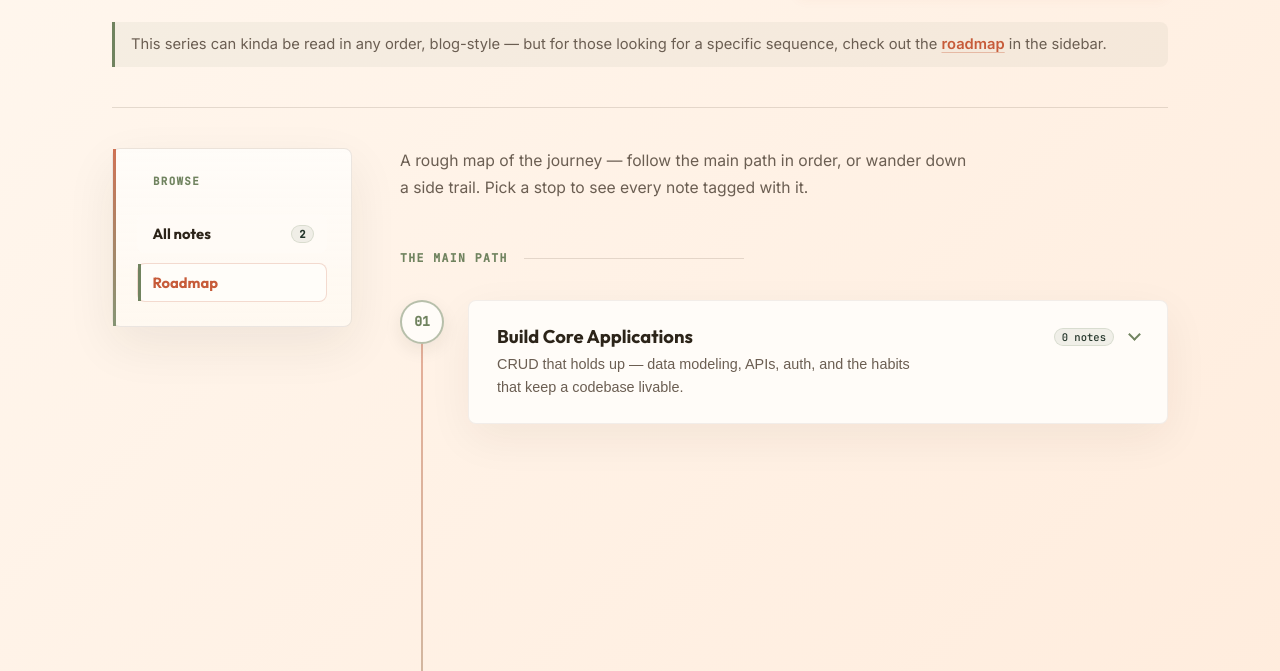
Scenario: Journal index › shows an empty message for roadmap topics with no notes
The image size is (1280, 671).
(page scrolled)
Click the button "Build Core Applications".
click(818, 362)  # box [469, 301, 1167, 423]
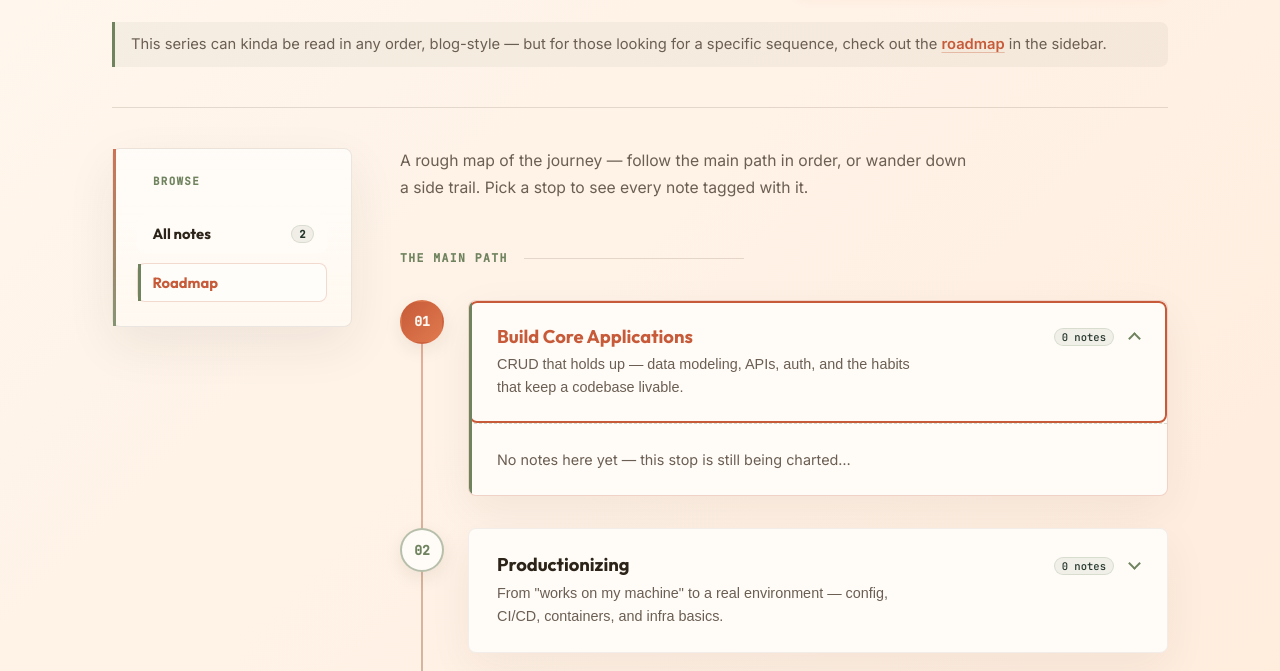
Result: the text "No notes here yet — this stop is still being charted…" is shown at [497, 451, 851, 468]
